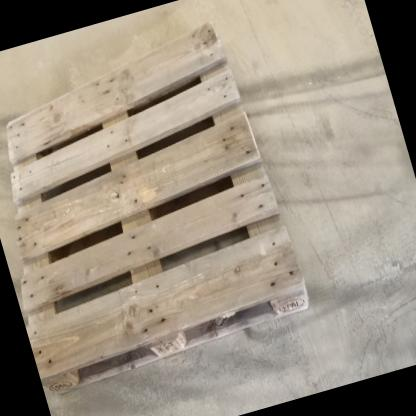BoxFace: (3, 10, 313, 402)
